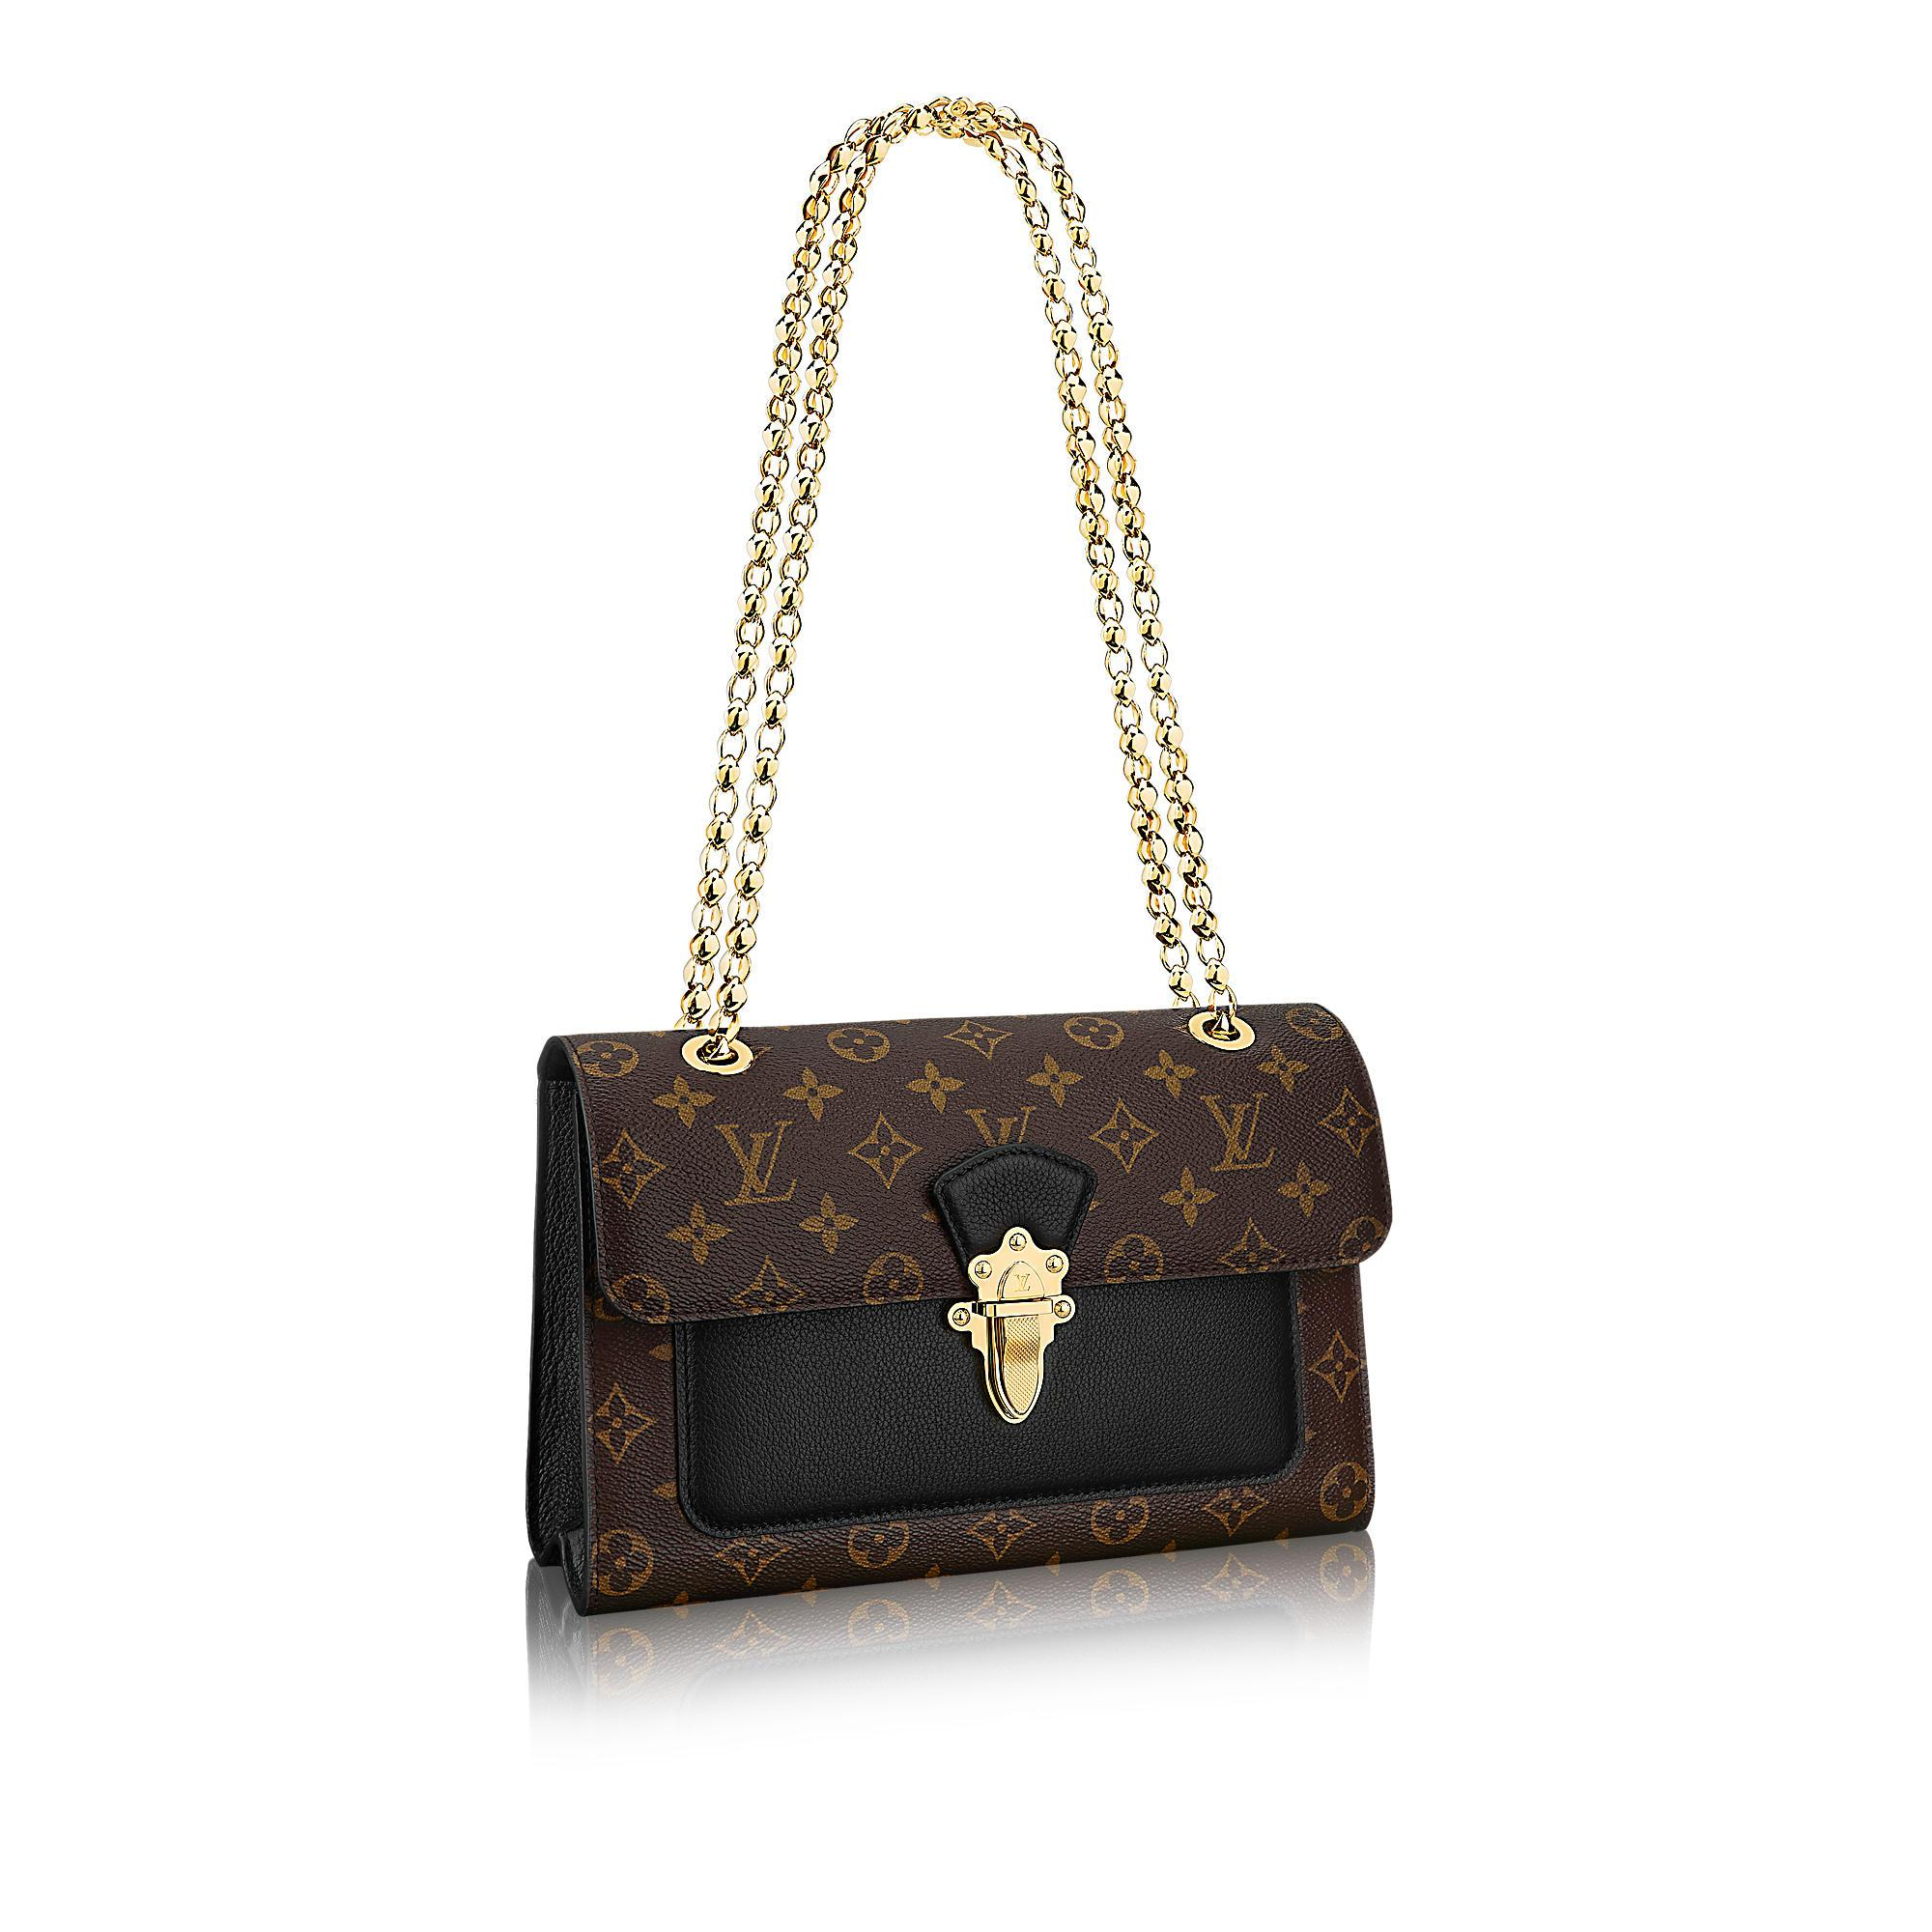LOUIS-VUITTON: (708, 1118, 801, 1207), (1194, 1092, 1279, 1175), (1010, 1270, 1033, 1293)
